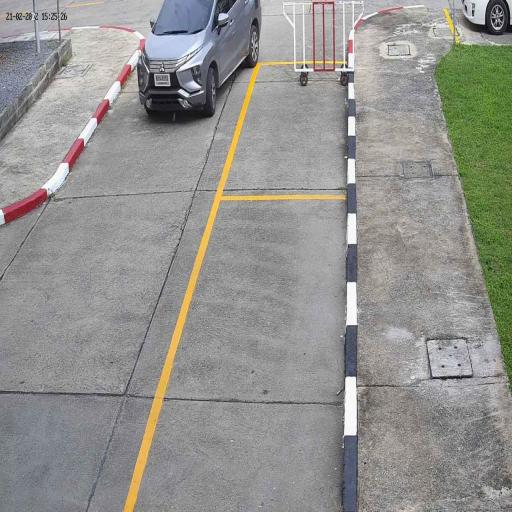car: (137, 0, 262, 119)
